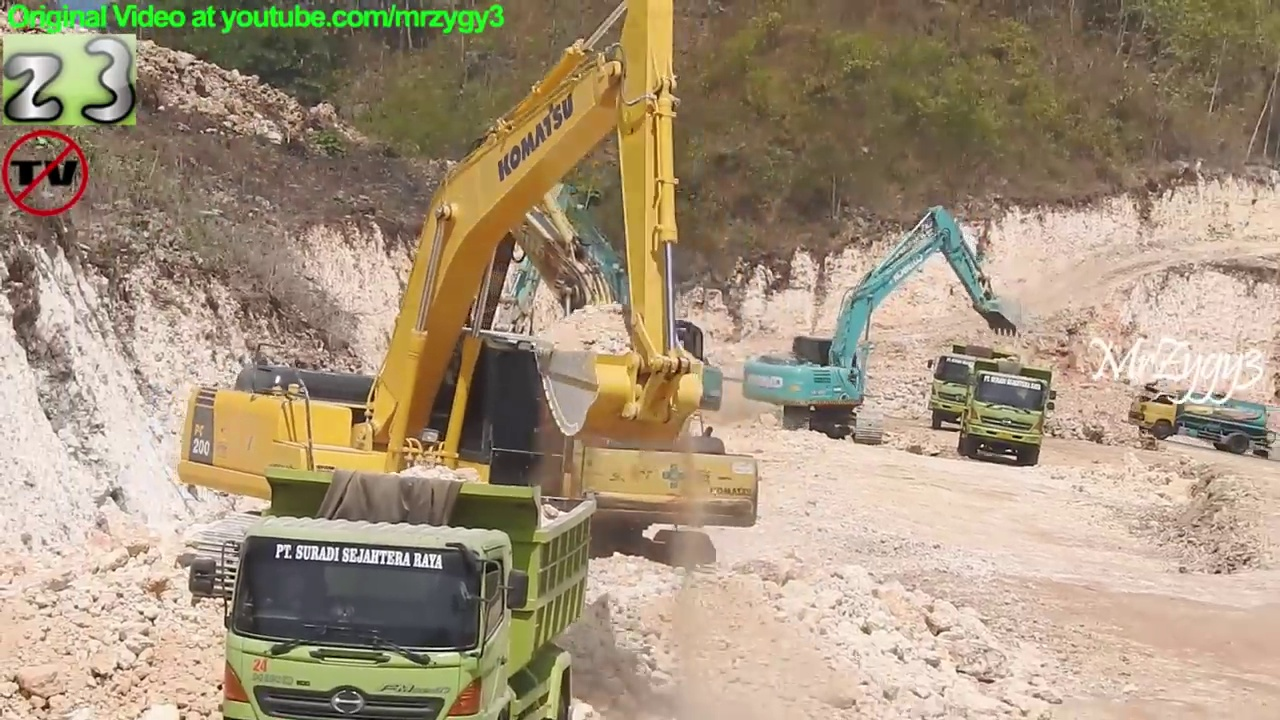excavator: (174, 1, 716, 607), (348, 152, 765, 592), (740, 200, 1030, 448), (478, 178, 729, 464)
truck: (186, 461, 605, 720), (1122, 378, 1279, 465), (955, 355, 1062, 469), (924, 343, 1026, 433)
